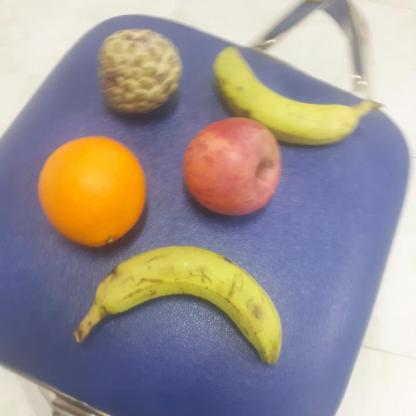annona: (93, 24, 183, 116)
apple: (181, 114, 286, 216)
banana: (92, 244, 286, 368), (208, 39, 359, 146)
orange: (34, 133, 150, 249)
